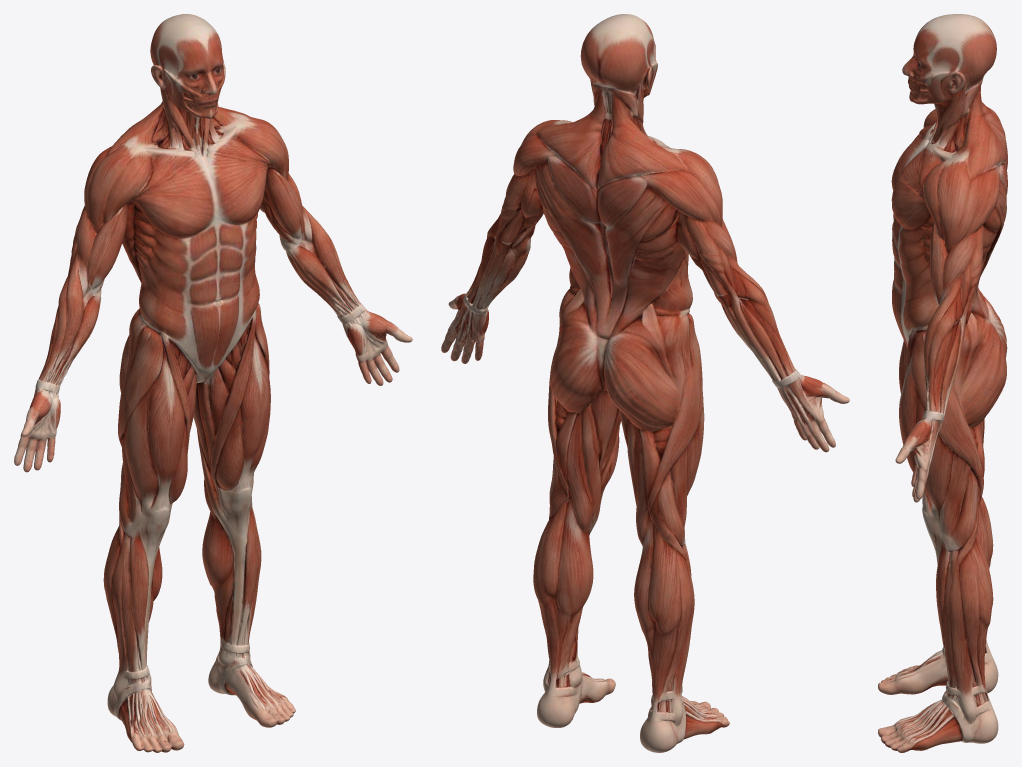
Rendered from muscles.glb.
3 views of the same model, side by side, from view 1: azimuth 30°, elevation 25°; view 2: azimuth 150°, elevation 25°; view 3: azimuth 270°, elevation 25° (orthographic). The views are drawn at different scales.
Parts seen in each view (by area): view 1: human-muscles; view 2: human-muscles; view 3: human-muscles.
Boxes of the visible parts, bbox=[...] form: human-muscles: bbox=[14, 14, 412, 752]; human-muscles: bbox=[441, 14, 849, 752]; human-muscles: bbox=[878, 14, 1007, 752].
Bounding box in the file's own units: 1.06 × 1.8 × 0.3027.
Materials: 1 (1 with a texture image).
